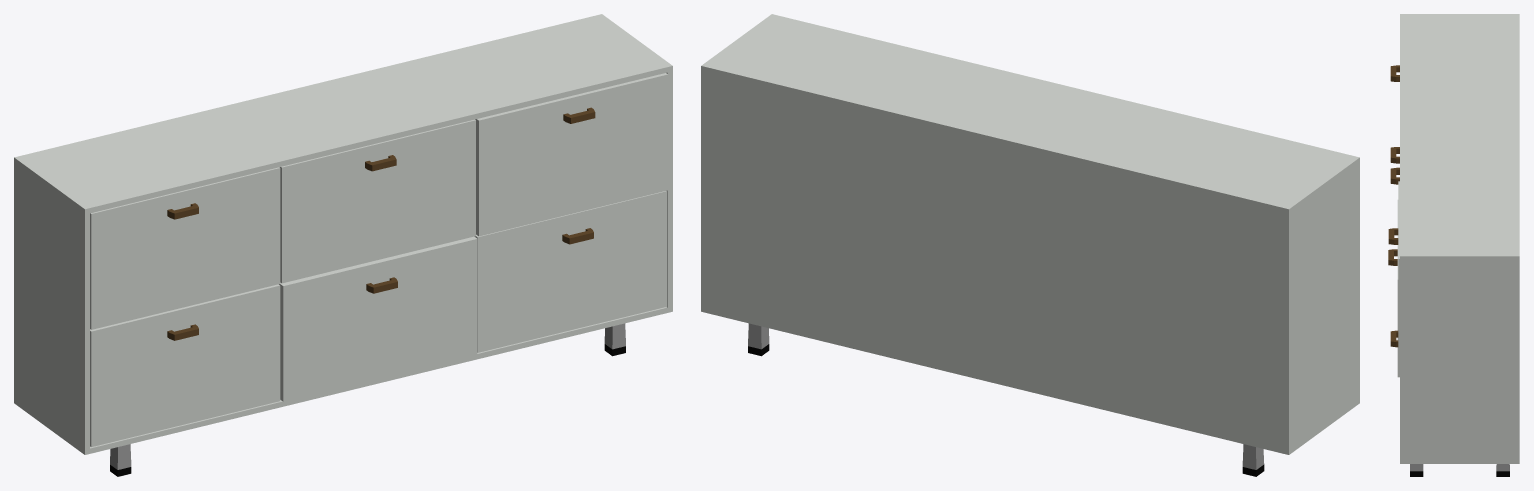
File: cabinet.dae
3 renders of one model, left to right at view 1: azimuth 30°, elevation 25°; view 2: azimuth 150°, elevation 25°; view 3: azimuth 270°, elevation 25°, orthographic. The views are drawn at different scales.
Parts seen in each view (by area): view 1: Cube_001; view 2: Cube_001; view 3: Cube_001.
Boxes of the visible parts, x1,y1,x2,y2 form: Cube_001: (14, 14, 672, 476); Cube_001: (701, 14, 1359, 476); Cube_001: (1388, 14, 1519, 476).
Bounding box in the file's own units: 5.76 × 1.32 × 2.63.
